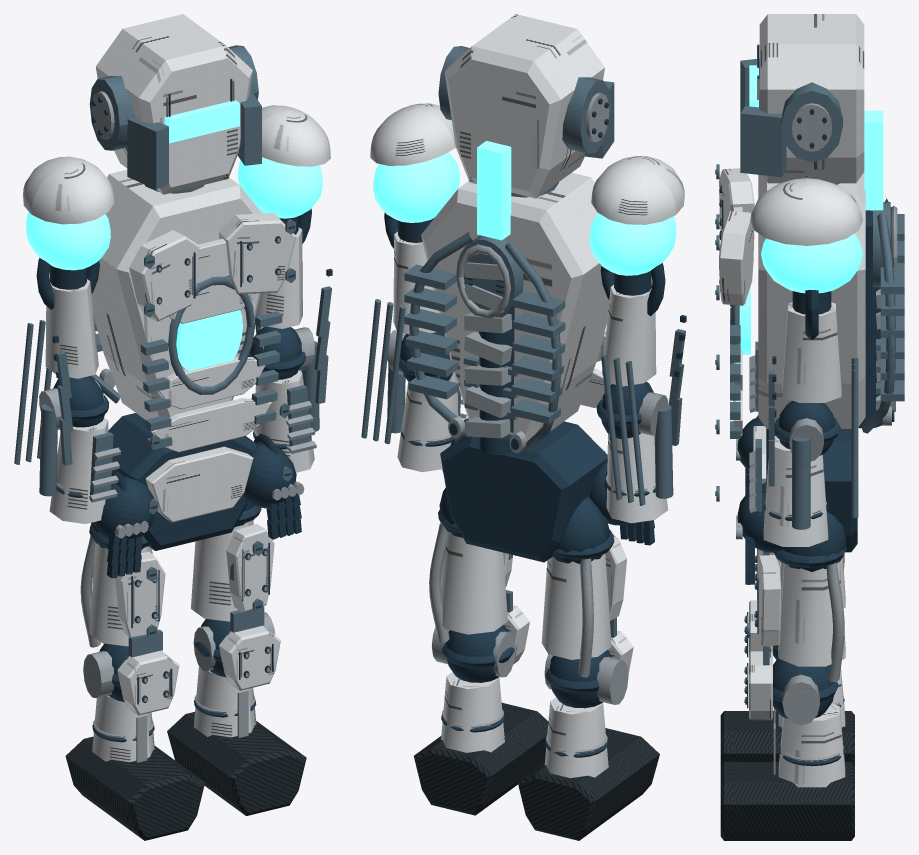
File: light-sport-robot-lod0.glb
3 views of the same model, side by side, from view 1: azimuth 30°, elevation 25°; view 2: azimuth 150°, elevation 25°; view 3: azimuth 270°, elevation 25° (orthographic). The views are drawn at different scales.
Visible parts, largest first — view 1: robot:torso:core-shell, robot:head, robot:foot:-1, robot:foot:1, robot:pelvis, robot:pelvis:armour-front, robot:shoulder:cap:-1, robot:pectoral:1, robot:pectoral:-1, robot:arm:upper-shell:-1, robot:identity:shoulder:1, robot:torso:armour-layer:0 (+42 smaller); view 2: robot:torso:core-shell, robot:head, robot:pelvis, robot:foot:-1, robot:foot:1, robot:leg:thigh:1, robot:leg:thigh:-1, robot:shoulder:cap:-1, robot:identity:shoulder:1, robot:shoulder:cap:1, robot:identity:shoulder:-1, robot:arm:upper-shell:-1 (+58 smaller); view 3: robot:head, robot:foot:1, robot:torso:core-shell, robot:shoulder:cap:1, robot:leg:thigh:1, robot:arm:upper-shell:1, robot:identity:shoulder:1, robot:arm:forearm:1, robot:leg:shin:1, robot:foot:-1, robot:pectoral:1, robot:cheek:1 (+37 smaller).
Part boxes in pixels (x1=…): robot:torso:core-shell: x1=91, y1=169, x2=262, y2=419; robot:head: x1=95, y1=14, x2=252, y2=194; robot:foot:-1: x1=65, y1=736, x2=204, y2=840; robot:foot:1: x1=167, y1=712, x2=306, y2=815; robot:pelvis: x1=108, y1=413, x2=257, y2=550; robot:pelvis:armour-front: x1=145, y1=446, x2=253, y2=522; robot:shoulder:cap:-1: x1=23, y1=156, x2=114, y2=224; robot:pectoral:1: x1=218, y1=213, x2=295, y2=294; robot:pectoral:-1: x1=129, y1=230, x2=199, y2=321; robot:arm:upper-shell:-1: x1=45, y1=275, x2=98, y2=378; robot:identity:shoulder:1: x1=237, y1=157, x2=322, y2=218; robot:torso:armour-layer:0: x1=151, y1=398, x2=271, y2=452; robot:torso:core-shell: x1=421, y1=172, x2=609, y2=441; robot:head: x1=444, y1=14, x2=604, y2=198; robot:pelvis: x1=440, y1=421, x2=607, y2=562; robot:foot:-1: x1=517, y1=728, x2=659, y2=840; robot:foot:1: x1=413, y1=702, x2=548, y2=815; robot:leg:thigh:1: x1=440, y1=531, x2=507, y2=634; robot:leg:thigh:-1: x1=541, y1=554, x2=611, y2=659; robot:shoulder:cap:-1: x1=591, y1=156, x2=684, y2=224; robot:identity:shoulder:1: x1=373, y1=152, x2=459, y2=222; robot:shoulder:cap:1: x1=370, y1=103, x2=455, y2=165; robot:identity:shoulder:-1: x1=589, y1=213, x2=676, y2=275; robot:arm:upper-shell:-1: x1=602, y1=281, x2=656, y2=386; robot:head: x1=759, y1=14, x2=864, y2=183; robot:foot:1: x1=720, y1=762, x2=854, y2=840; robot:torso:core-shell: x1=758, y1=172, x2=865, y2=428; robot:shoulder:cap:1: x1=750, y1=178, x2=862, y2=245; robot:leg:thigh:1: x1=778, y1=561, x2=845, y2=666; robot:arm:upper-shell:1: x1=782, y1=302, x2=841, y2=402; robot:identity:shoulder:1: x1=761, y1=233, x2=862, y2=293; robot:arm:forearm:1: x1=763, y1=436, x2=828, y2=546; robot:leg:shin:1: x1=778, y1=703, x2=845, y2=787; robot:foot:-1: x1=720, y1=711, x2=854, y2=765; robot:pectoral:1: x1=719, y1=211, x2=754, y2=305; robot:cheek:1: x1=740, y1=106, x2=786, y2=177.
Size of the model in its own units: 1 by 2.48 by 0.5499.
6 materials, 5 textured.
